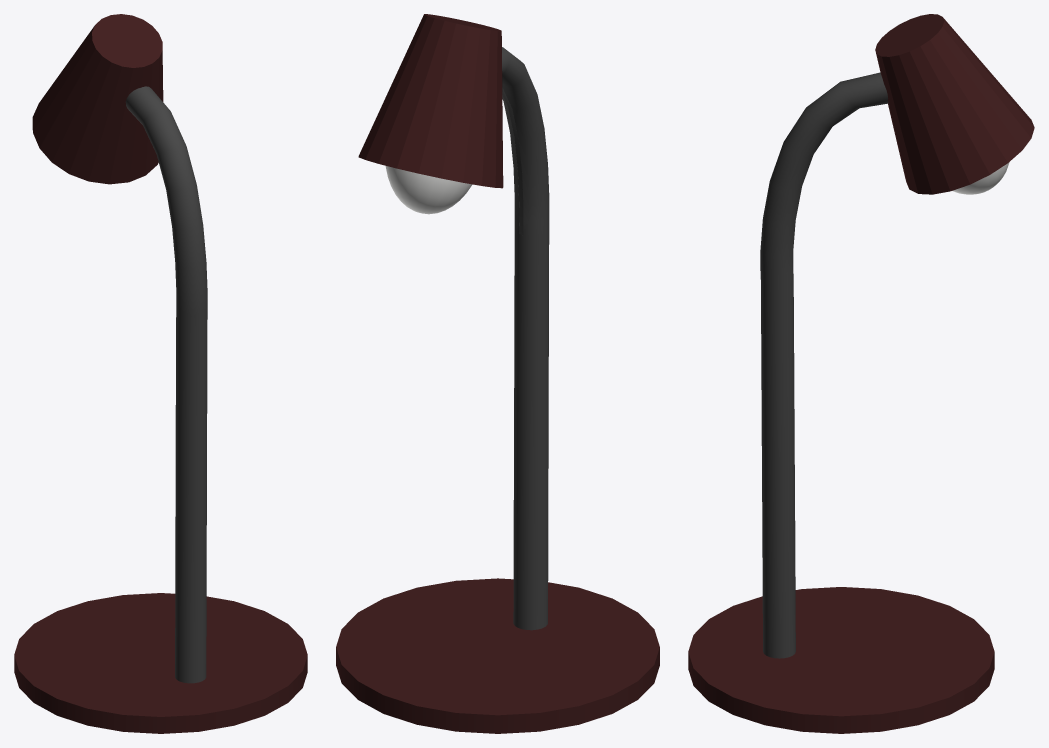
File: lamp.fbx
The picture shows the model from 3 angles, left to right: view 1: azimuth 30°, elevation 25°; view 2: azimuth 150°, elevation 25°; view 3: azimuth 270°, elevation 25°; orthographic projection. The views are drawn at different scales.
Visible parts, largest first — view 1: pDisc1, pCylinder3, pCylinder2; view 2: pDisc1, pCylinder3, pCylinder2, pSphere1; view 3: pDisc1, pCylinder3, pCylinder2, pSphere1.
Part boxes in pixels (x1=…): pDisc1: x1=14, y1=593, x2=307, y2=733; pCylinder3: x1=125, y1=86, x2=207, y2=683; pCylinder2: x1=32, y1=14, x2=163, y2=184; pDisc1: x1=336, y1=578, x2=659, y2=733; pCylinder3: x1=502, y1=47, x2=549, y2=630; pCylinder2: x1=358, y1=14, x2=503, y2=188; pSphere1: x1=385, y1=166, x2=472, y2=214; pDisc1: x1=688, y1=587, x2=994, y2=733; pCylinder3: x1=760, y1=72, x2=888, y2=658; pCylinder2: x1=875, y1=14, x2=1034, y2=194; pSphere1: x1=952, y1=162, x2=1009, y2=194.
Size of the model in its own units: 1.47 by 3.43 by 1.66.
